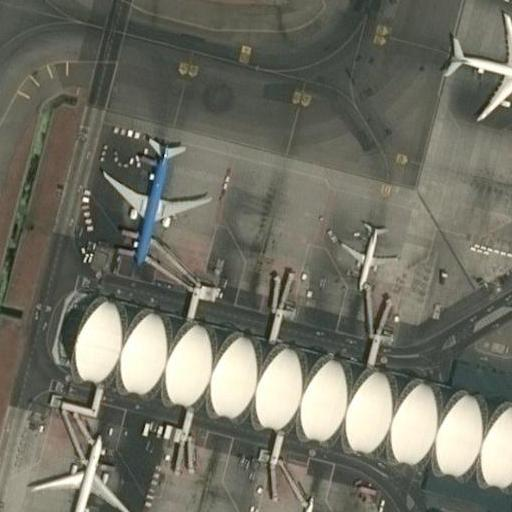Aircraft: (99, 130, 206, 266), (28, 427, 133, 512), (446, 9, 512, 125), (335, 214, 395, 288), (271, 492, 327, 512)
